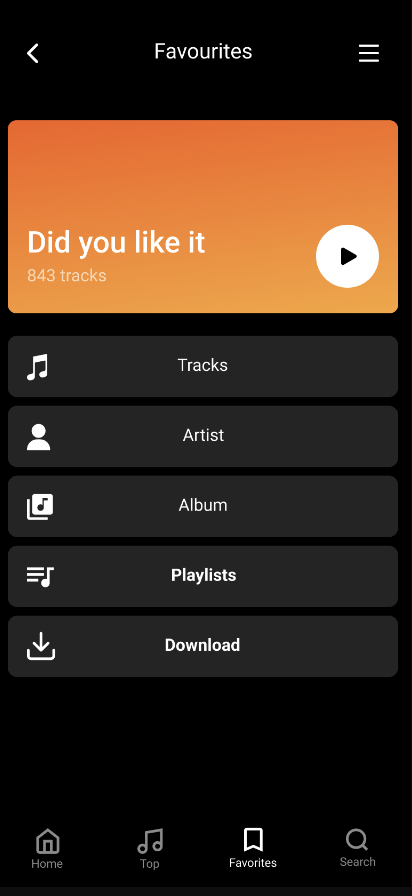AppBar: (1, 1, 412, 70)
